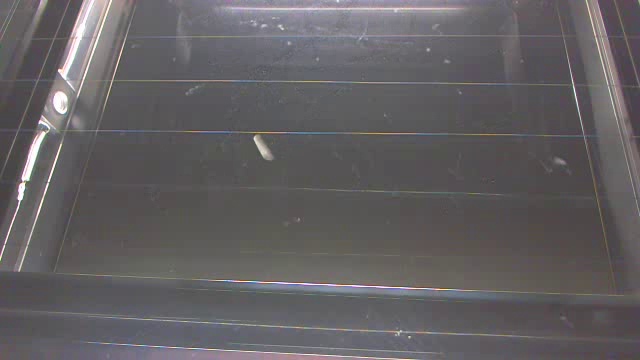alpha: (248, 133, 286, 171)
